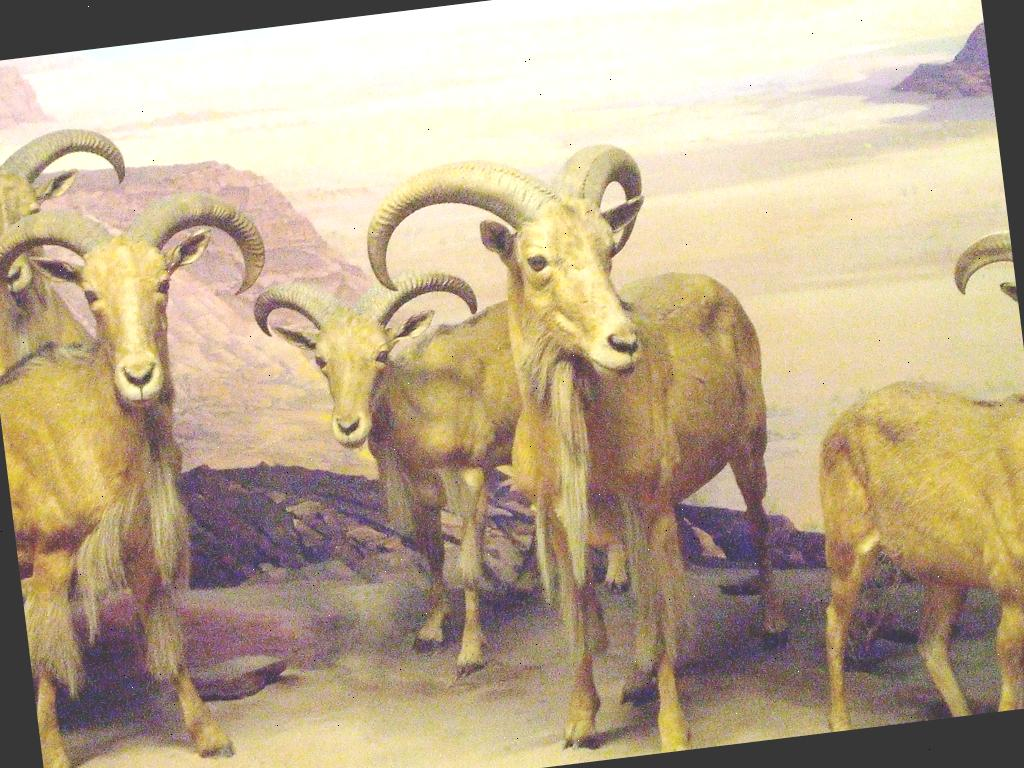Sheep: (349, 121, 811, 768), (0, 100, 326, 768), (228, 222, 609, 708), (775, 229, 1024, 726)
